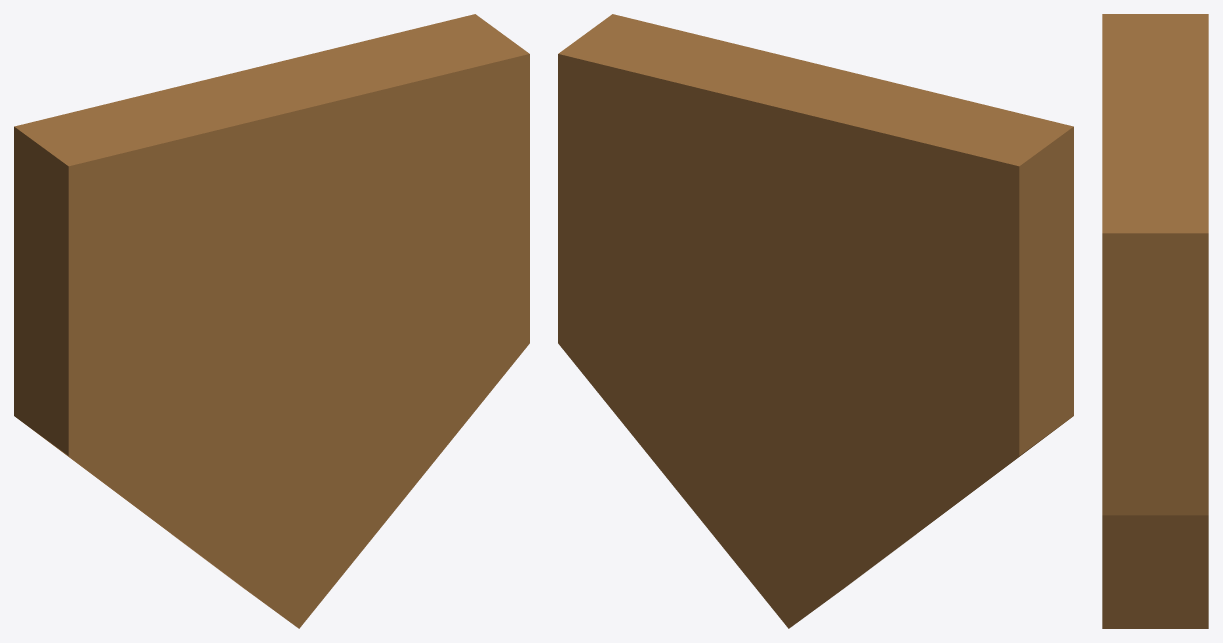
File: emblem_stone.fbx
3 renders of one model, left to right at view 1: azimuth 30°, elevation 25°; view 2: azimuth 150°, elevation 25°; view 3: azimuth 270°, elevation 25°, orthographic. The views are drawn at different scales.
Visible parts, largest first — view 1: Emblem; view 2: Emblem; view 3: Emblem.
Part boxes in pixels (x1,y1,x2,y2): Emblem: (14,14,529,628); Emblem: (558,14,1073,628); Emblem: (1102,14,1208,628).
Bounding box in the file's own units: 44 × 47.3 × 9.
